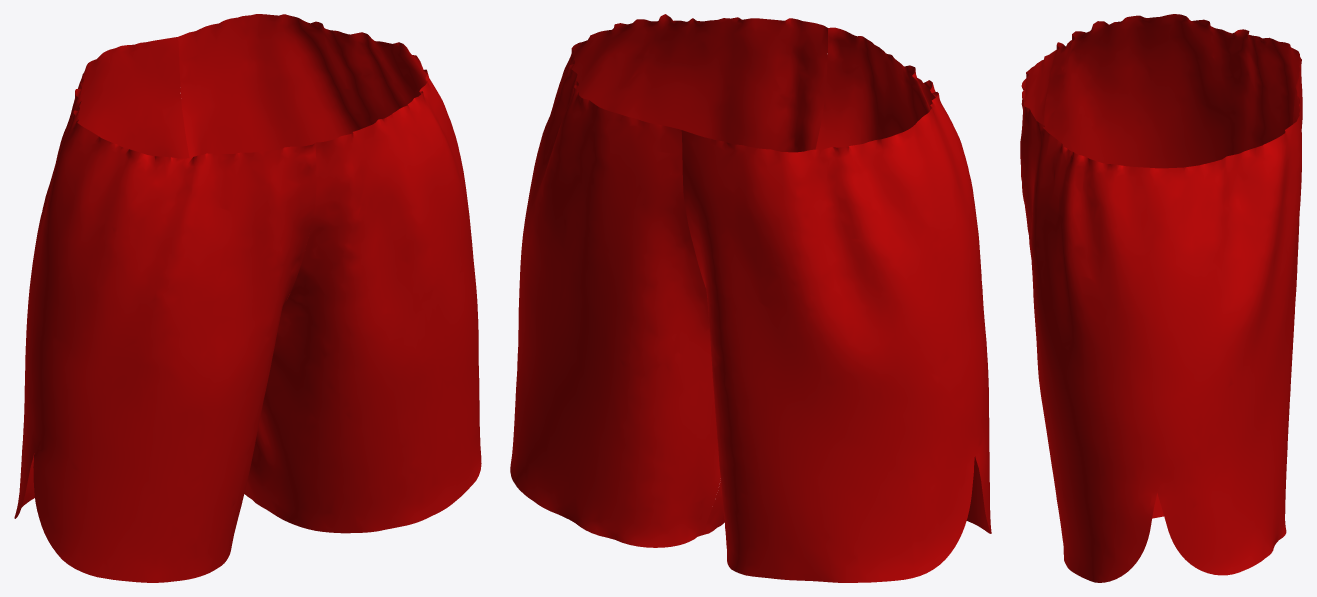
File: body_curve.glb
3 renders of one model, left to right at view 1: azimuth 30°, elevation 25°; view 2: azimuth 150°, elevation 25°; view 3: azimuth 270°, elevation 25°, orthographic. The views are drawn at different scales.
Visible parts, largest first — view 1: body_curve; view 2: body_curve; view 3: body_curve.
Boxes of the visible parts, x1,y1,x2,y2 form: body_curve: [14, 14, 481, 582]; body_curve: [510, 14, 991, 582]; body_curve: [1020, 14, 1302, 582].
Bounding box in the file's own units: 2.12 × 2.03 × 1.22.
